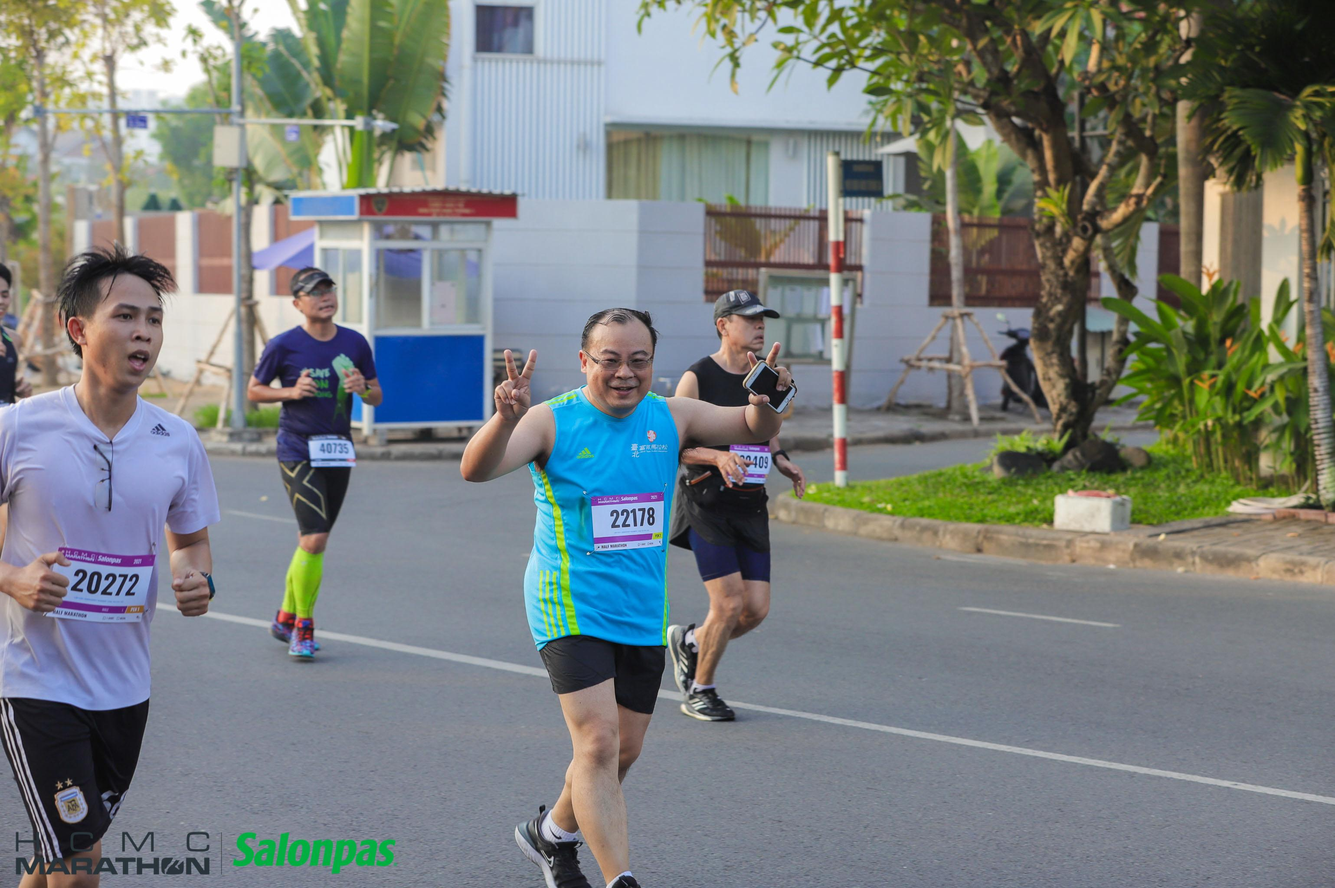bib: (42, 549, 155, 622), (592, 496, 664, 550), (307, 435, 356, 467), (729, 446, 769, 483)
